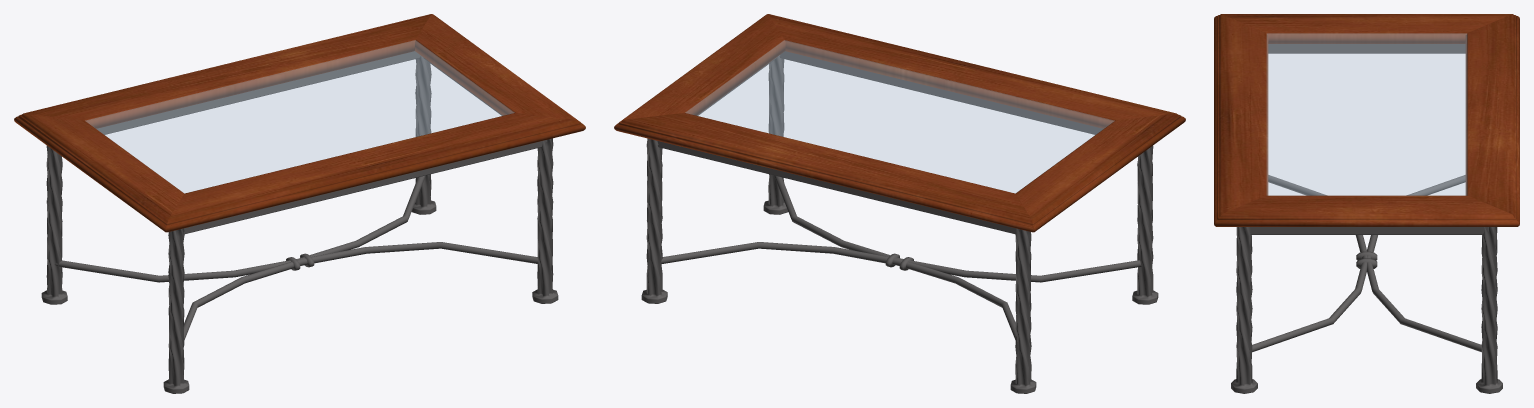
File: table_wood_and_iron.glb
3 renders of one model, left to right at view 1: azimuth 30°, elevation 25°; view 2: azimuth 150°, elevation 25°; view 3: azimuth 270°, elevation 25°, orthographic.
Visible parts, largest first — view 1: woodenframe_Plane.001, glass_Cube, ironbase_Cylinder.002; view 2: woodenframe_Plane.001, glass_Cube, ironbase_Cylinder.002; view 3: woodenframe_Plane.001, glass_Cube, ironbase_Cylinder.002.
Boxes of the visible parts, left/top/right/bottom form: woodenframe_Plane.001: left=14, top=14, right=585, bottom=232; glass_Cube: left=85, top=40, right=514, bottom=193; ironbase_Cylinder.002: left=41, top=51, right=558, bottom=393; woodenframe_Plane.001: left=614, top=14, right=1185, bottom=232; glass_Cube: left=685, top=40, right=1114, bottom=193; ironbase_Cylinder.002: left=641, top=51, right=1158, bottom=393; woodenframe_Plane.001: left=1214, top=14, right=1519, bottom=226; glass_Cube: left=1267, top=33, right=1466, bottom=195; ironbase_Cylinder.002: left=1231, top=44, right=1502, bottom=393.
Size of the model in its own units: 1.21 by 0.5029 by 0.7592.
Materials: 3 (1 with a texture image).
